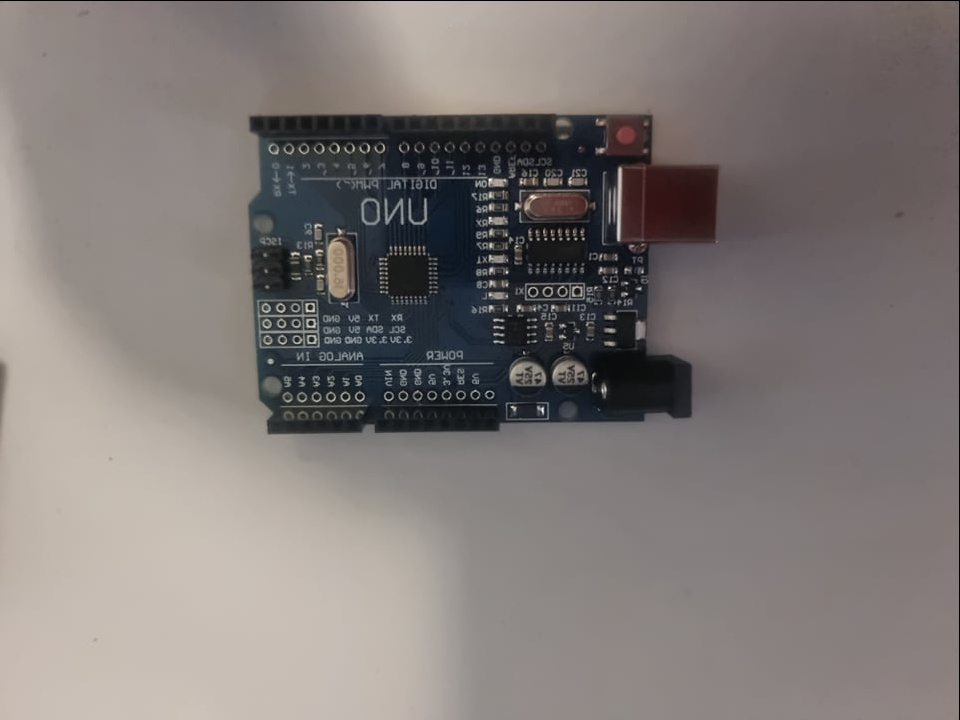UNO R3: (235, 104, 725, 442)
